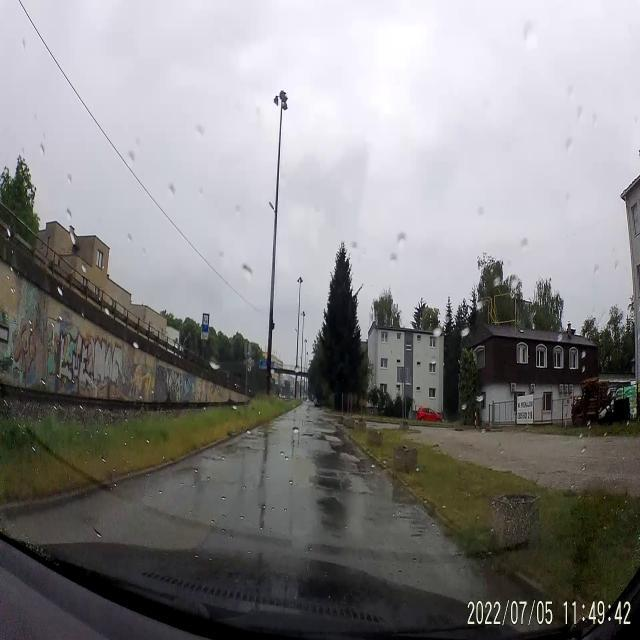Pothole: (168, 460, 208, 488)
